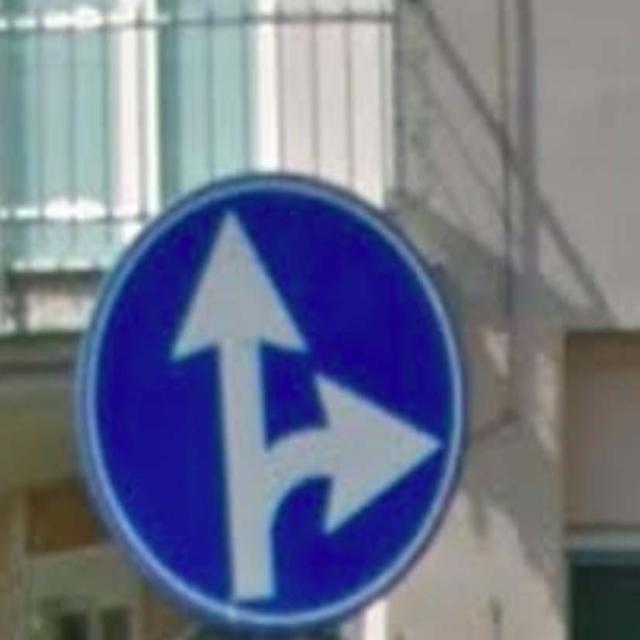ilerisag: (79, 176, 463, 627)
